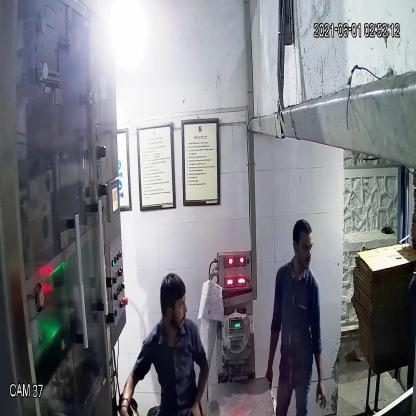no_goggles: (158, 294, 190, 314), (289, 237, 317, 259)
